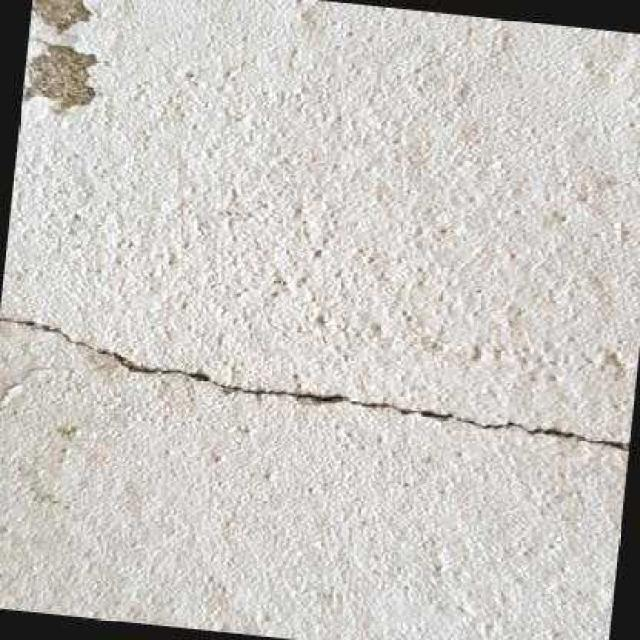D00: (0, 316, 629, 449)
